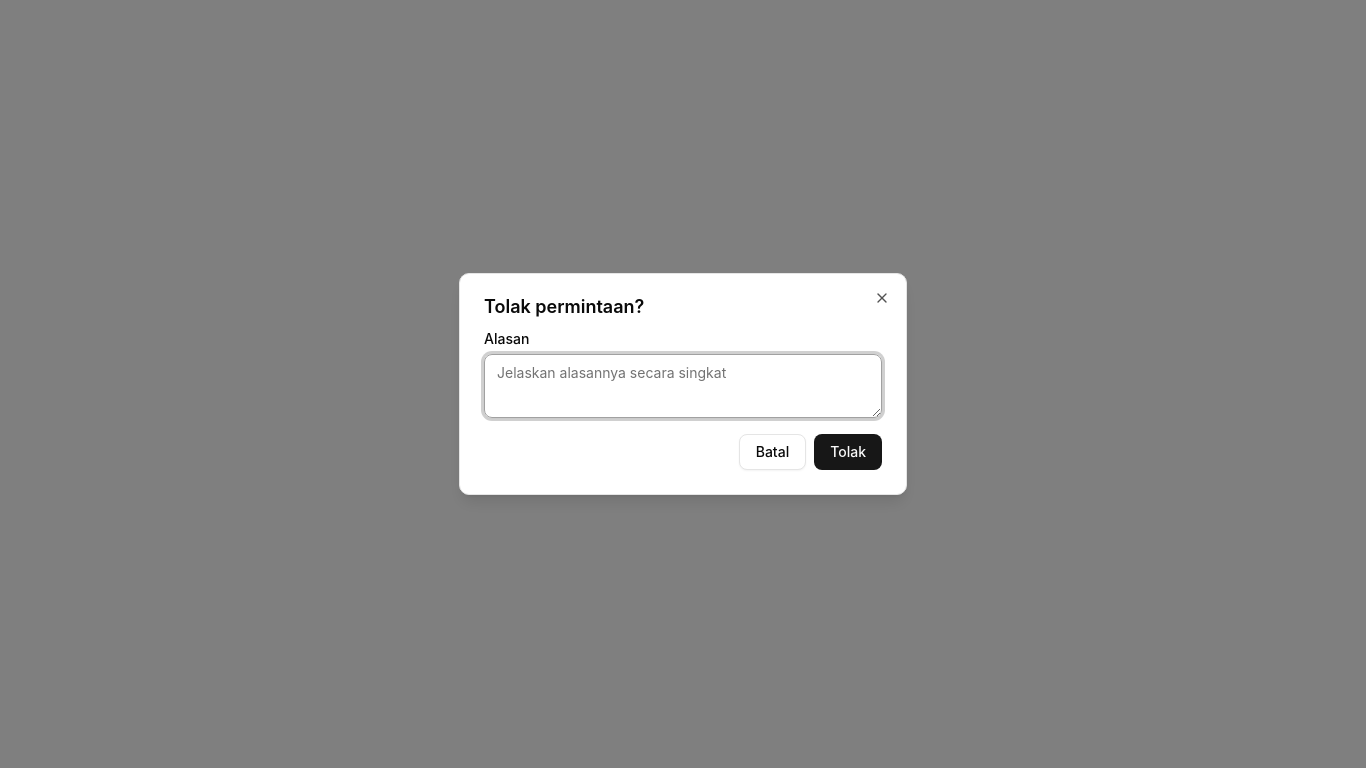
Test: ConfirmWithReasonDialog — alasan wajib › US-M10-04 KP-3 menolak konfirmasi tanpa alasan (onConfirm tidak dipanggil)
Later steps or results of the test are not shown.
Click the button "Tolak": (848, 452) [814, 434, 882, 470]
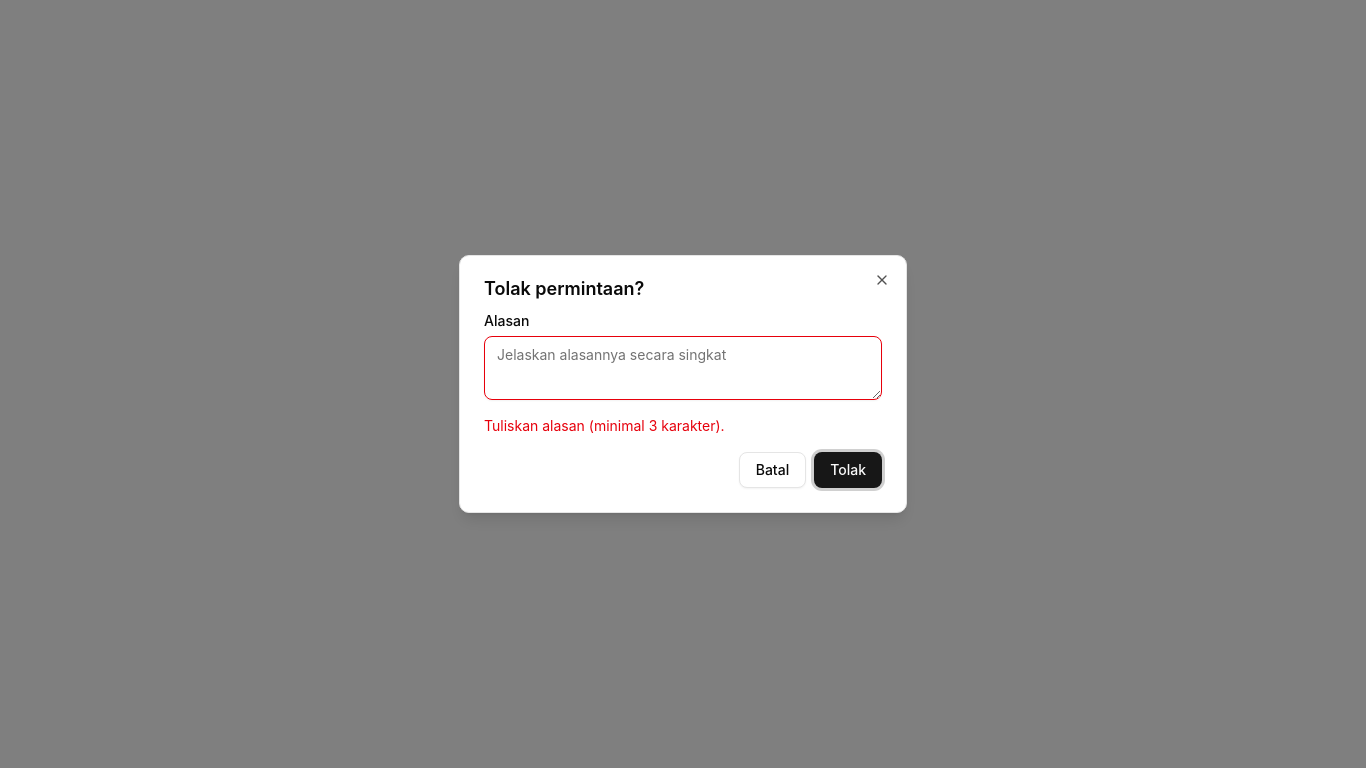
Check: the message shows "Tuliskan alasan", box [484, 417, 725, 434]
